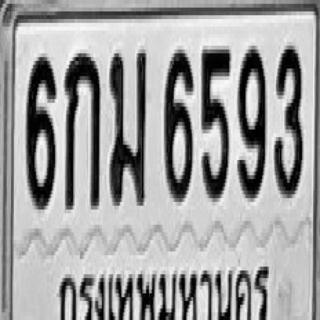A01: (64, 49, 100, 210)
A33: (109, 46, 146, 206)
N03: (274, 42, 303, 198)
N05: (200, 46, 230, 202)
N06: (26, 53, 56, 210), (164, 46, 193, 202)
N09: (237, 46, 266, 198)
P04: (57, 259, 270, 320)
